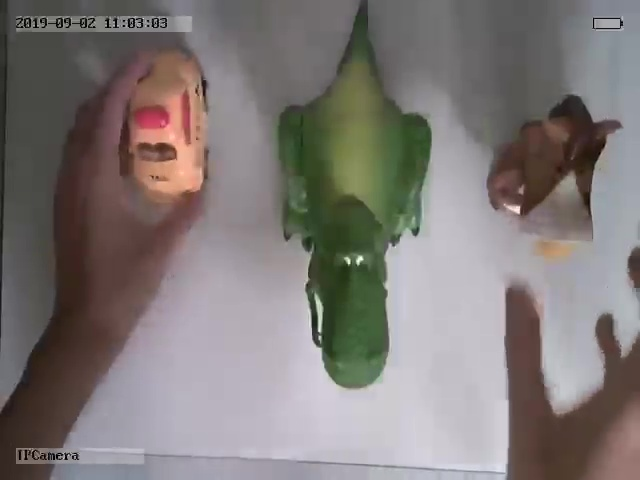car: (126, 51, 212, 197)
horse: (487, 91, 623, 263)
rex: (274, 3, 434, 389)
